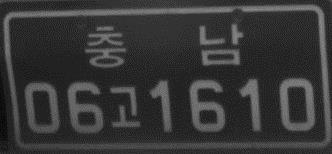0: (277, 76, 316, 133), (22, 80, 61, 136)
1: (148, 77, 175, 134), (238, 74, 263, 134)
6: (188, 76, 226, 135), (65, 80, 104, 135)
고: (108, 83, 142, 130)
충남_D: (86, 18, 244, 71)
